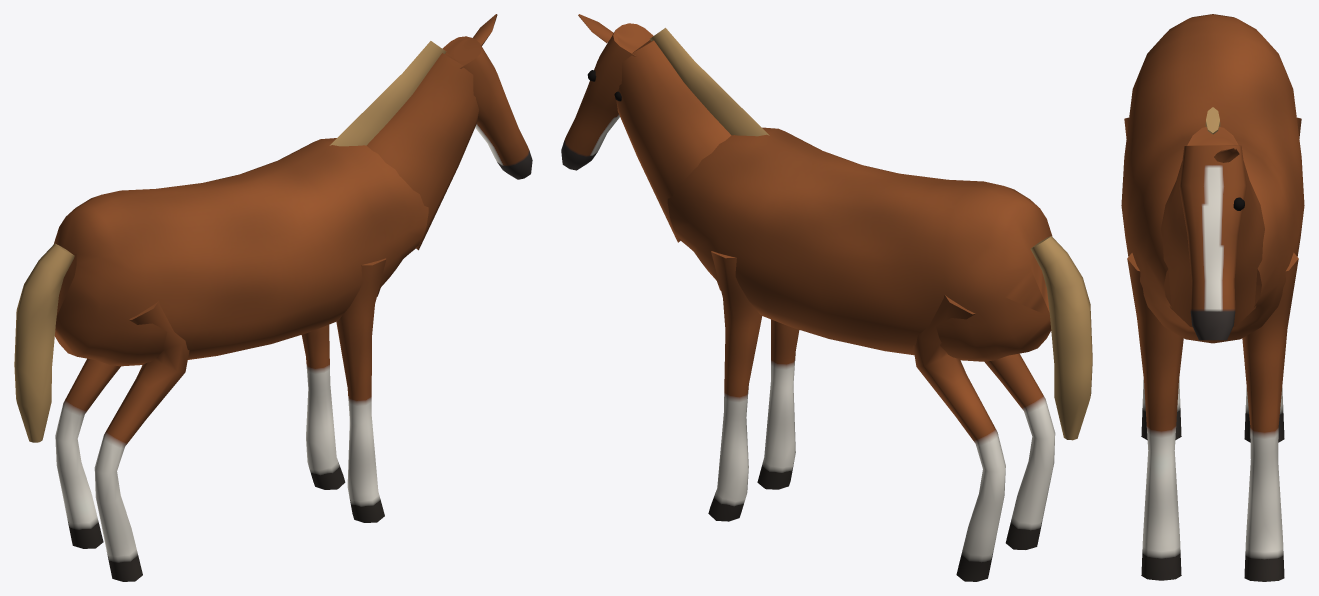
Rendered from tpl_life_stall_1575_horse_5_horse_chestnut_stand.glb.
3 renders of one model, left to right at view 1: azimuth 30°, elevation 25°; view 2: azimuth 150°, elevation 25°; view 3: azimuth 270°, elevation 25°, orthographic. The views are drawn at different scales.
Visible parts, largest first — view 1: tpl_life_stall_1575_horse_5_horse_chestnut_stand; view 2: tpl_life_stall_1575_horse_5_horse_chestnut_stand; view 3: tpl_life_stall_1575_horse_5_horse_chestnut_stand.
Boxes of the visible parts, bbox=[...] form: tpl_life_stall_1575_horse_5_horse_chestnut_stand: bbox=[14, 14, 532, 581]; tpl_life_stall_1575_horse_5_horse_chestnut_stand: bbox=[561, 14, 1092, 581]; tpl_life_stall_1575_horse_5_horse_chestnut_stand: bbox=[1121, 14, 1304, 581].
Bounding box in the file's own units: 2.44 × 2 × 0.6397.
2 materials, 1 textured.
